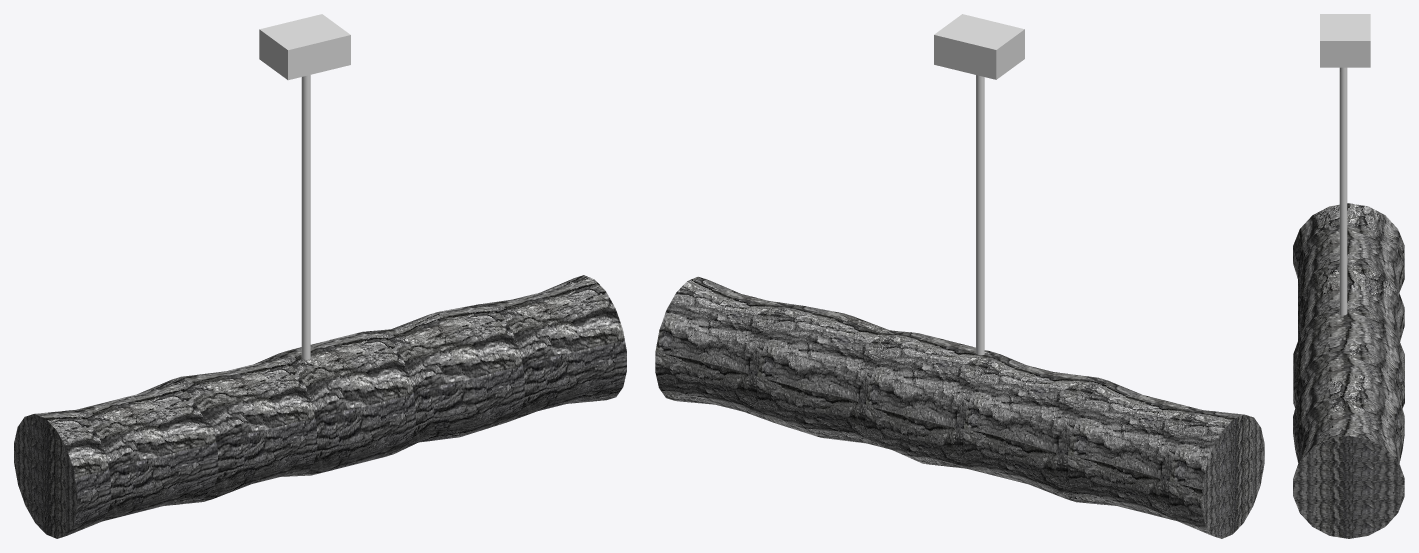
File: Pendulo.FBX
3 views of the same model, side by side, from view 1: azimuth 30°, elevation 25°; view 2: azimuth 150°, elevation 25°; view 3: azimuth 270°, elevation 25° (orthographic). The views are drawn at different scales.
Parts seen in each view (by area): view 1: tronco, Box001, cuerda; view 2: tronco, Box001, cuerda; view 3: tronco, Box001, cuerda.
Part boxes in pixels (<box>): tronco: <box>14,275,626,538</box>; Box001: <box>259,14,350,80</box>; cuerda: <box>301,75,310,359</box>; tronco: <box>655,276,1264,538</box>; Box001: <box>934,14,1024,79</box>; cuerda: <box>976,75,984,355</box>; tronco: <box>1293,203,1404,538</box>; Box001: <box>1320,14,1370,67</box>; cuerda: <box>1339,67,1347,315</box>.
Size of the model in its own units: 34.54 by 26.45 by 6.87.
